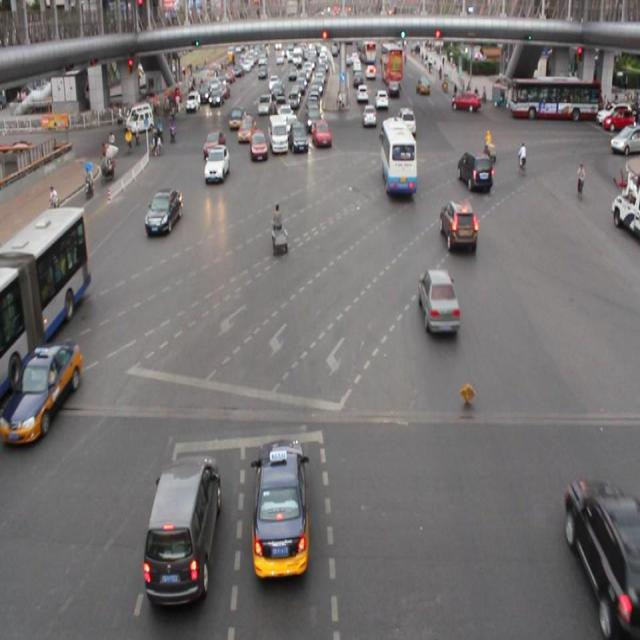car: (565, 480, 640, 629), (251, 437, 310, 582), (1, 342, 81, 439), (418, 267, 460, 335), (440, 199, 476, 253), (145, 187, 184, 236), (457, 151, 493, 193), (203, 144, 230, 183), (288, 119, 309, 155), (248, 127, 268, 163), (394, 106, 416, 138), (203, 128, 225, 160), (312, 118, 330, 147), (238, 115, 255, 142), (229, 105, 246, 128)
truck: (144, 454, 223, 603), (267, 112, 288, 155)
van: (0, 210, 89, 398), (381, 118, 416, 196)
